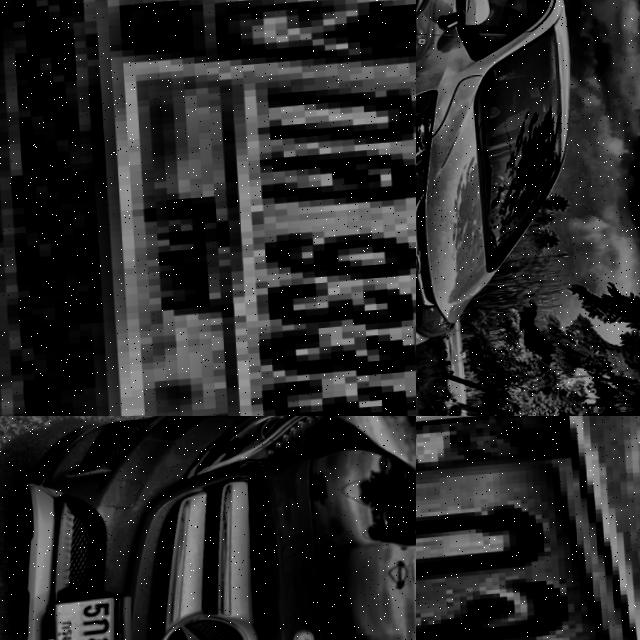license-plate: (0, 0, 416, 416), (416, 416, 640, 640), (34, 594, 134, 640)
